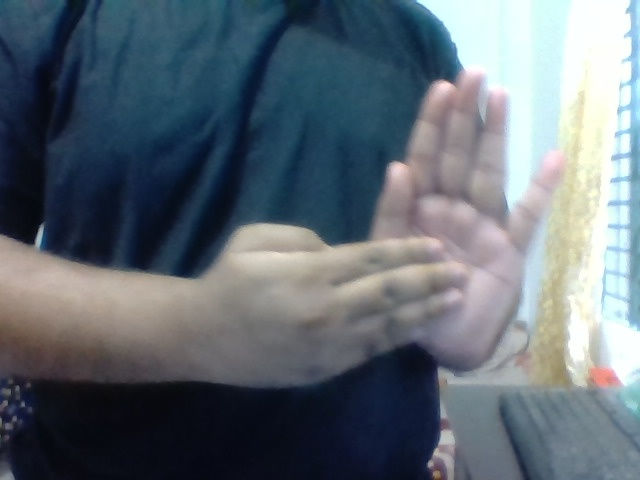H: (219, 60, 565, 388)
